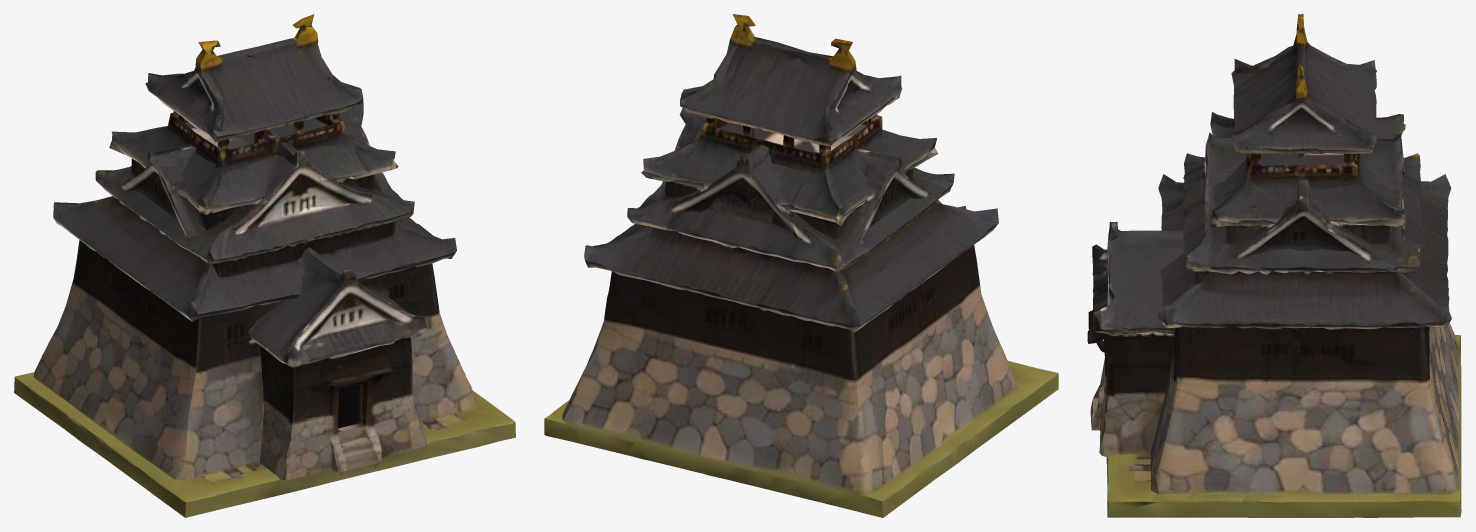
The model's file is matsue-castle.glb.
3 views of the same model, side by side, from view 1: azimuth 30°, elevation 25°; view 2: azimuth 150°, elevation 25°; view 3: azimuth 270°, elevation 25° (orthographic). The views are drawn at different scales.
Visible parts, largest first — view 1: logan-textured.obj; view 2: logan-textured.obj; view 3: logan-textured.obj.
Part boxes in pixels (x1=…): logan-textured.obj: x1=14, y1=14, x2=515, y2=517; logan-textured.obj: x1=544, y1=14, x2=1058, y2=517; logan-textured.obj: x1=1087, y1=14, x2=1461, y2=517.
Bounding box in the file's own units: 0.9105 × 1 × 0.8634.
1 material, 1 textured.
